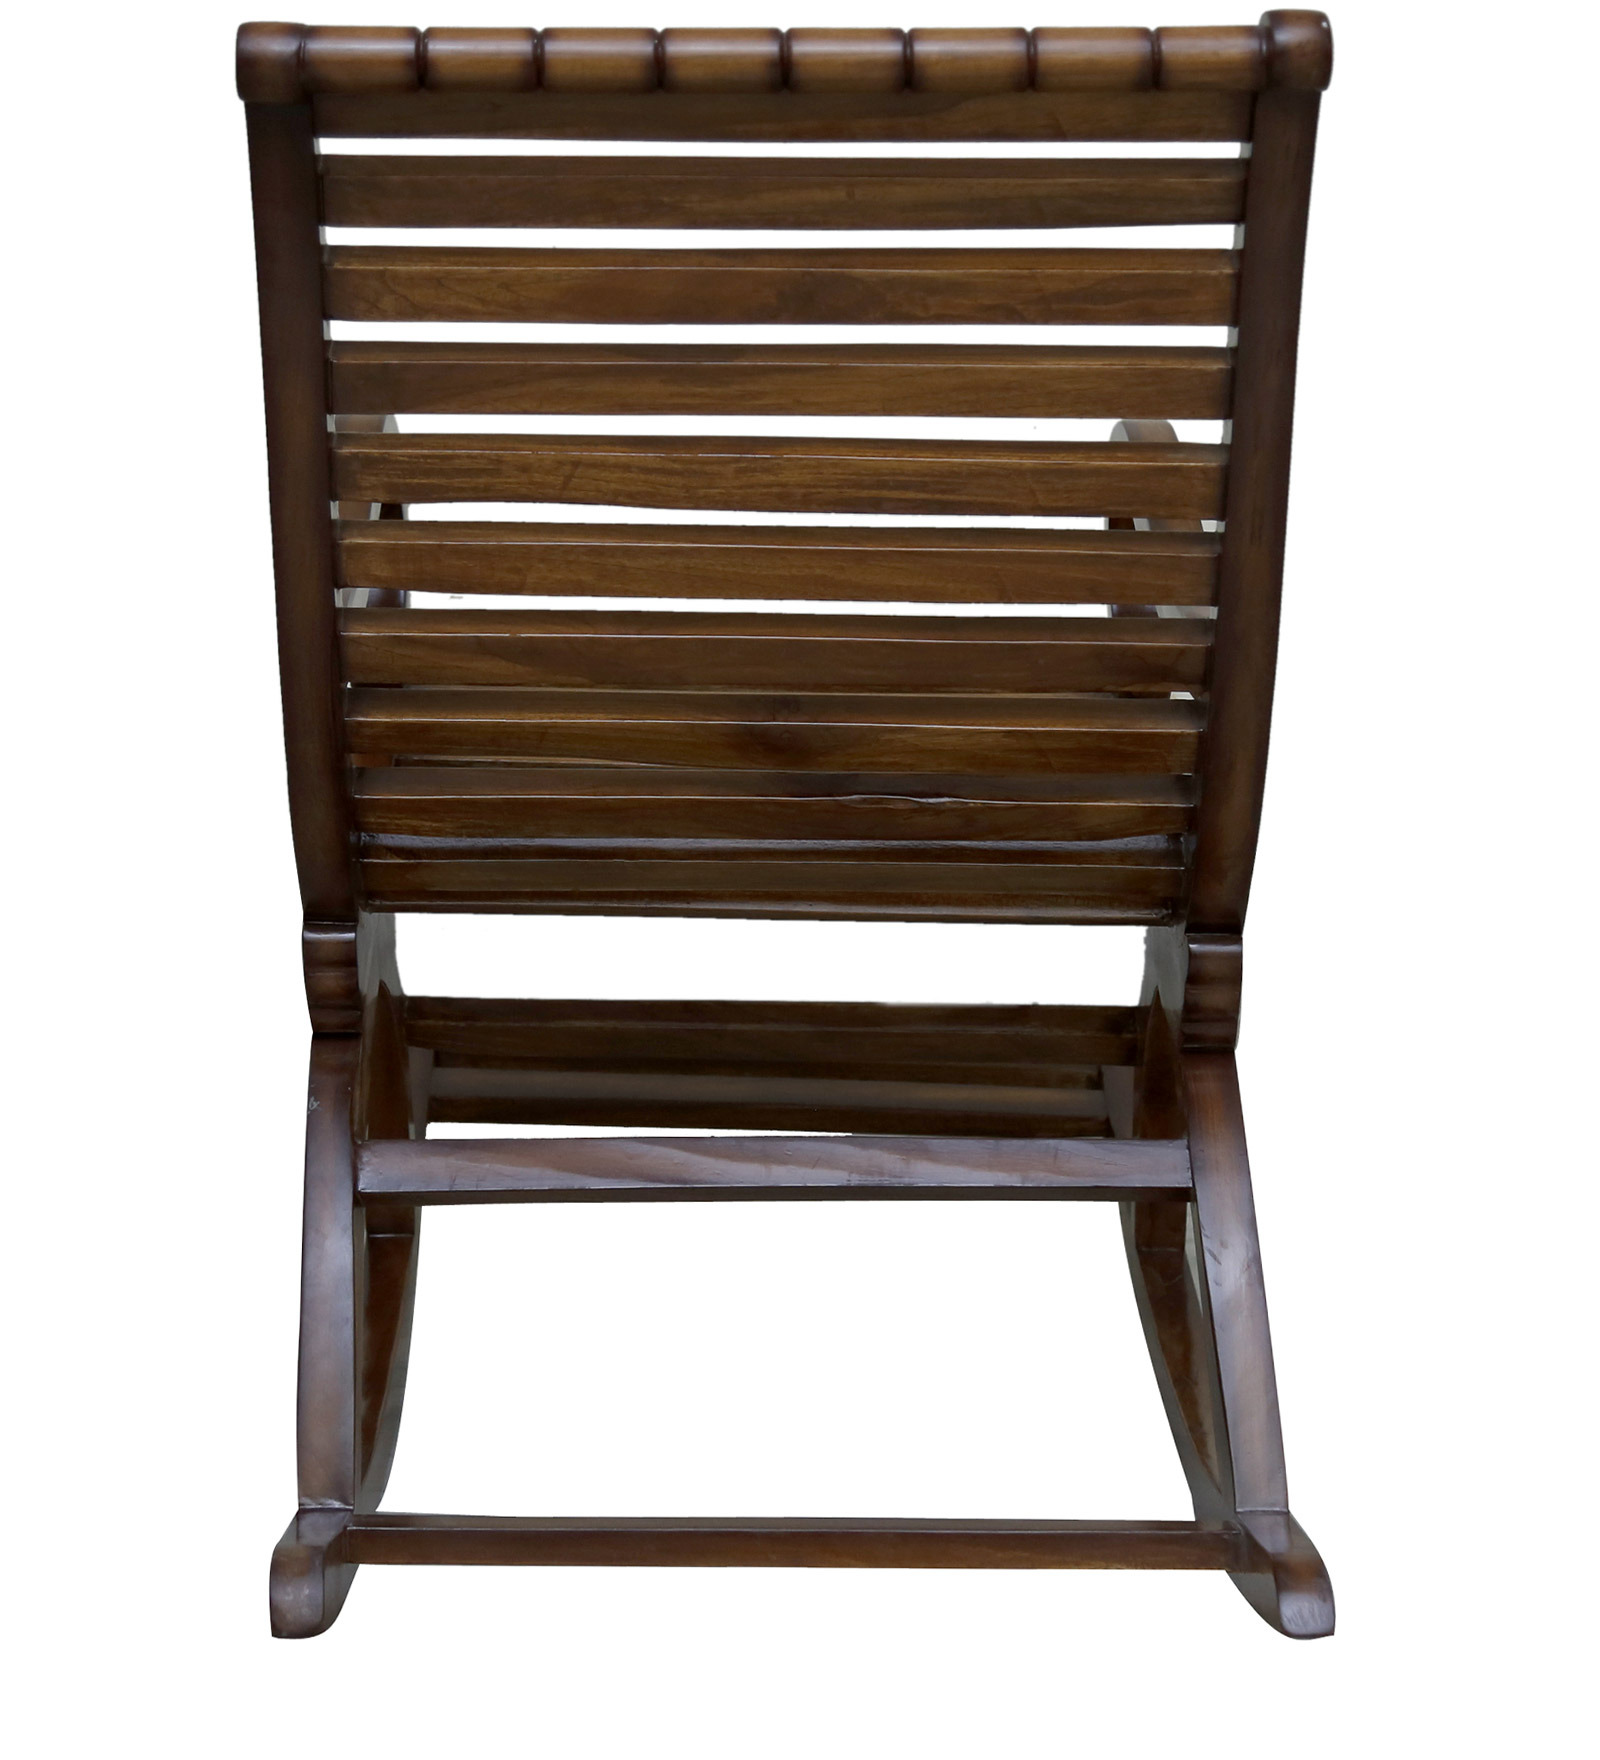Rocking Chair in Teak Colour by RVF: (167, 28, 1390, 1735)
